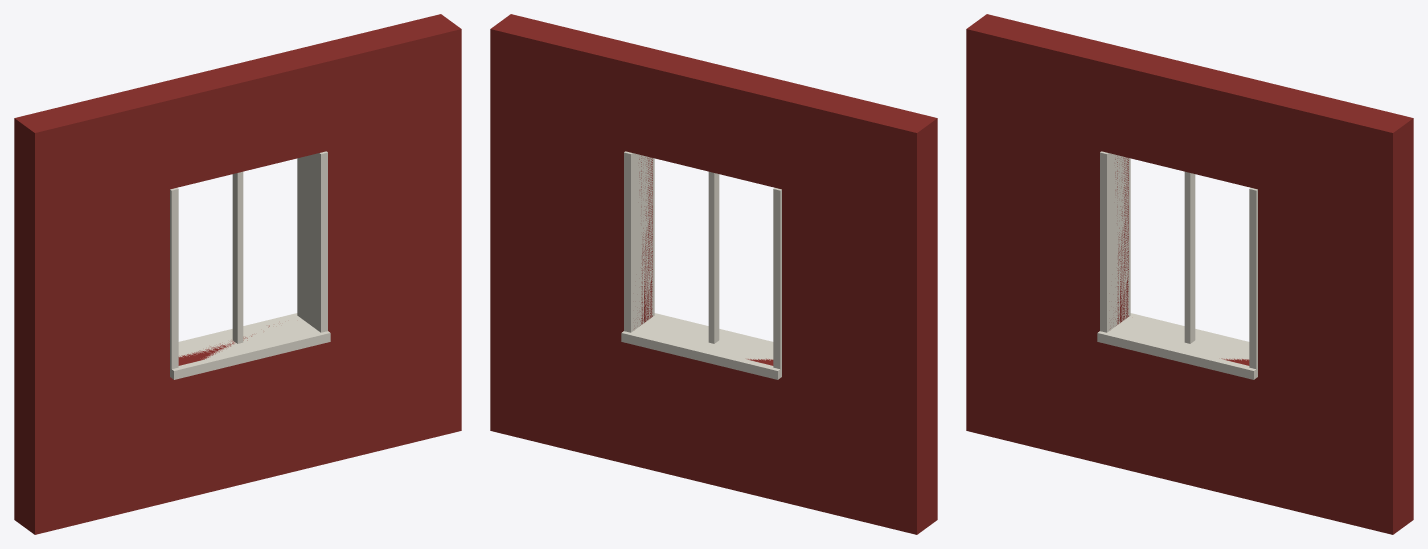
The model's file is GK_Wall_Window_Barn_01.glb.
The picture shows the model from 3 angles, left to right: view 1: azimuth 30°, elevation 25°; view 2: azimuth 150°, elevation 25°; view 3: azimuth 330°, elevation 25°; orthographic projection.
Visible parts, largest first — view 1: GK_Wall_Window_Barn_01; view 2: GK_Wall_Window_Barn_01; view 3: GK_Wall_Window_Barn_01.
Boxes of the visible parts, left/top/right/bottom form: GK_Wall_Window_Barn_01: left=14, top=14, right=461, bottom=534; GK_Wall_Window_Barn_01: left=490, top=14, right=937, bottom=534; GK_Wall_Window_Barn_01: left=966, top=14, right=1413, bottom=534.
Size of the model in its own units: 3 by 2.7 by 0.35.
Materials: 1 (1 with a texture image).
